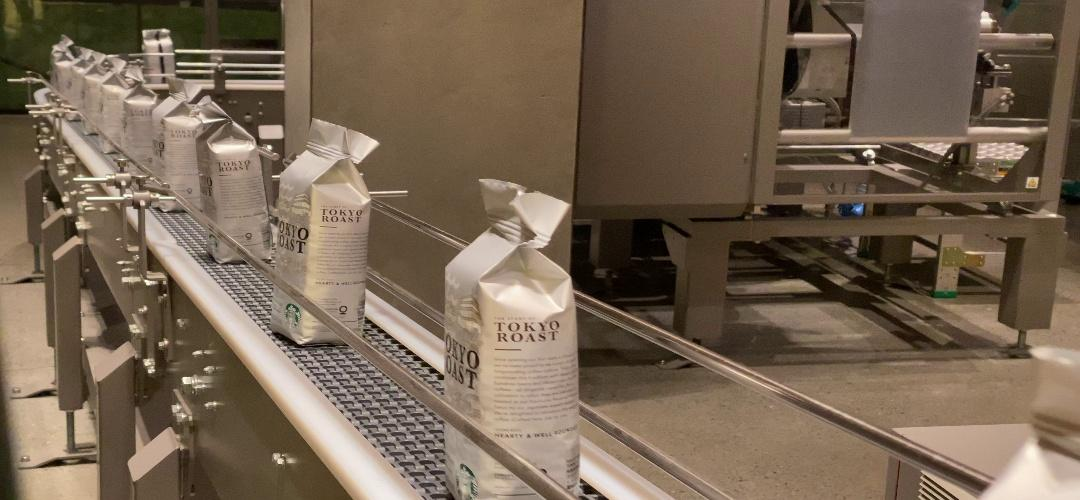conveyor: (443, 265, 582, 401), (276, 174, 369, 268), (196, 143, 270, 211)
